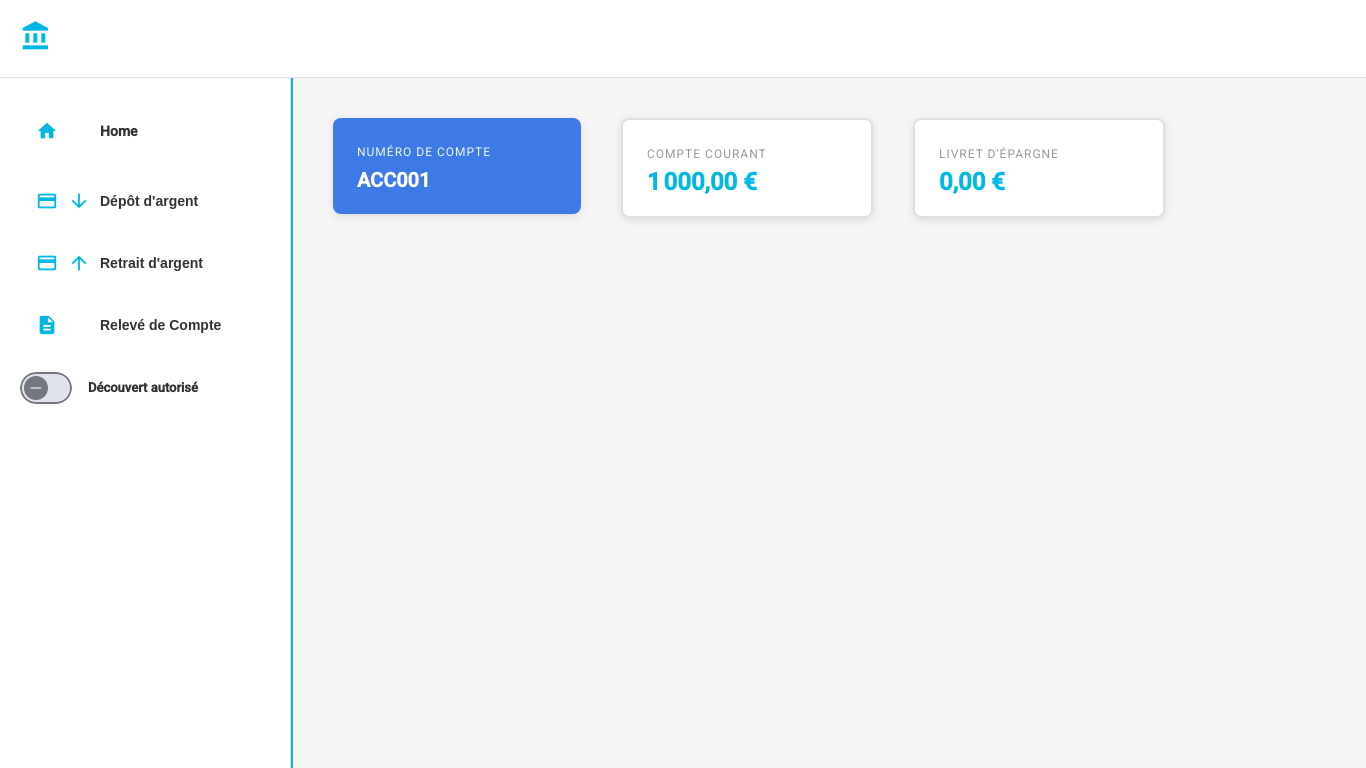
Test case: Account dashboard flows › shows the statement with recent transactions
This screenshot has width=1366, height=768.
Click the button "Relevé de Compte": (145, 325) [20,302,270,348]
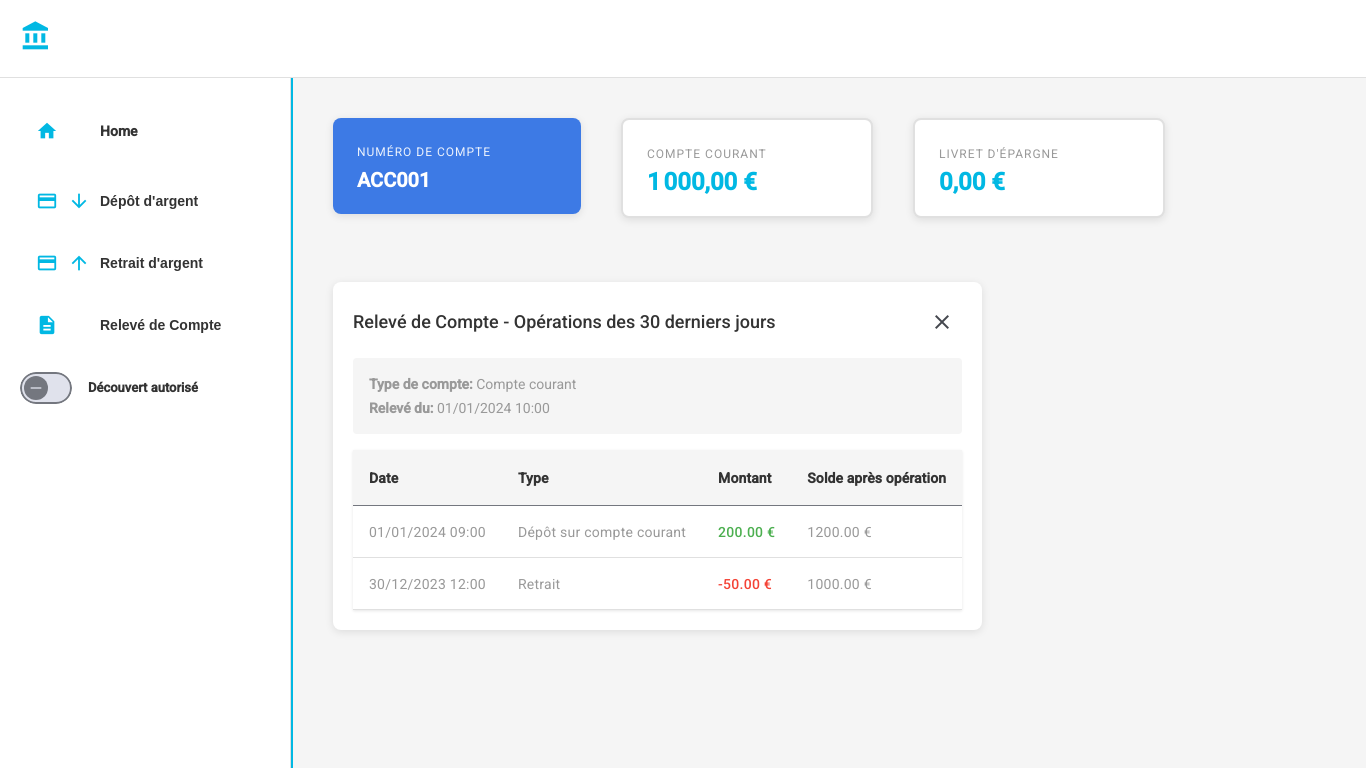
Check: the element with class "statement-section" is shown, box [333,282,982,630]
Check: the text "Dépôt sur compte courant" is shown, box [502,506,702,558]
Check: the text "200" is shown, box [718,524,775,540]
